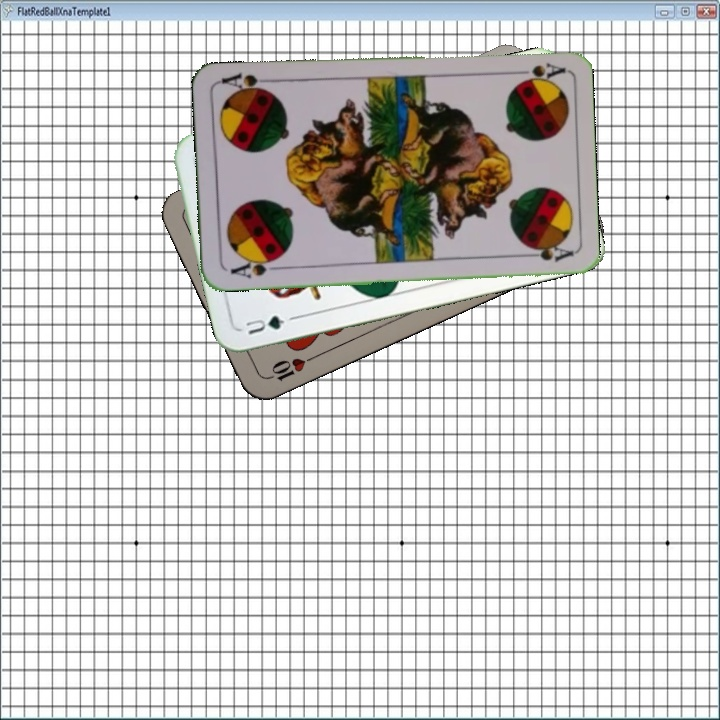GU: (241, 311, 287, 338)
H10: (261, 351, 318, 385)
SA: (226, 253, 283, 281), (507, 59, 566, 85)
